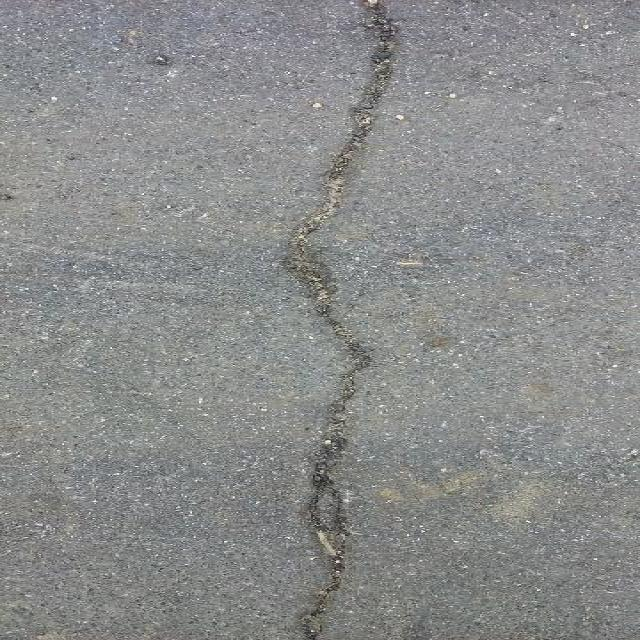moderate crack: (10, 89, 70, 132), (26, 620, 142, 640), (390, 250, 431, 270), (7, 598, 39, 623), (252, 218, 291, 238), (0, 417, 32, 440), (619, 444, 640, 468), (140, 620, 165, 636)
severe crack: (0, 198, 303, 640), (361, 8, 640, 278), (1, 6, 261, 255), (382, 457, 570, 526), (66, 350, 206, 422)
